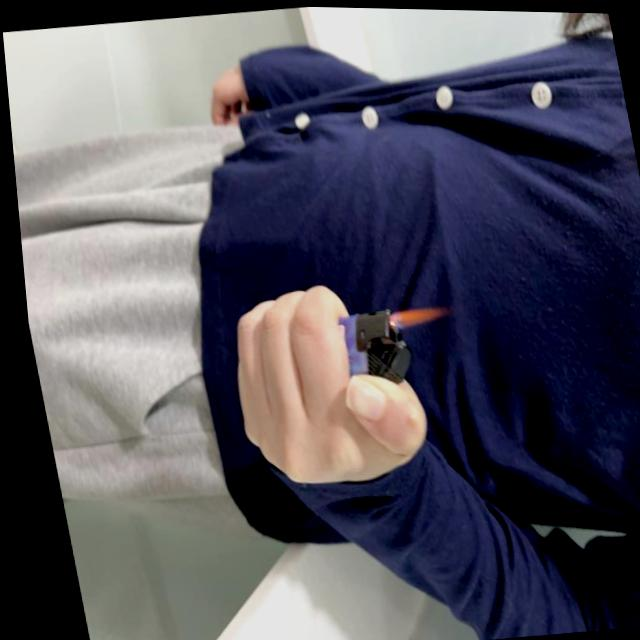helmet: (381, 299, 444, 330)
